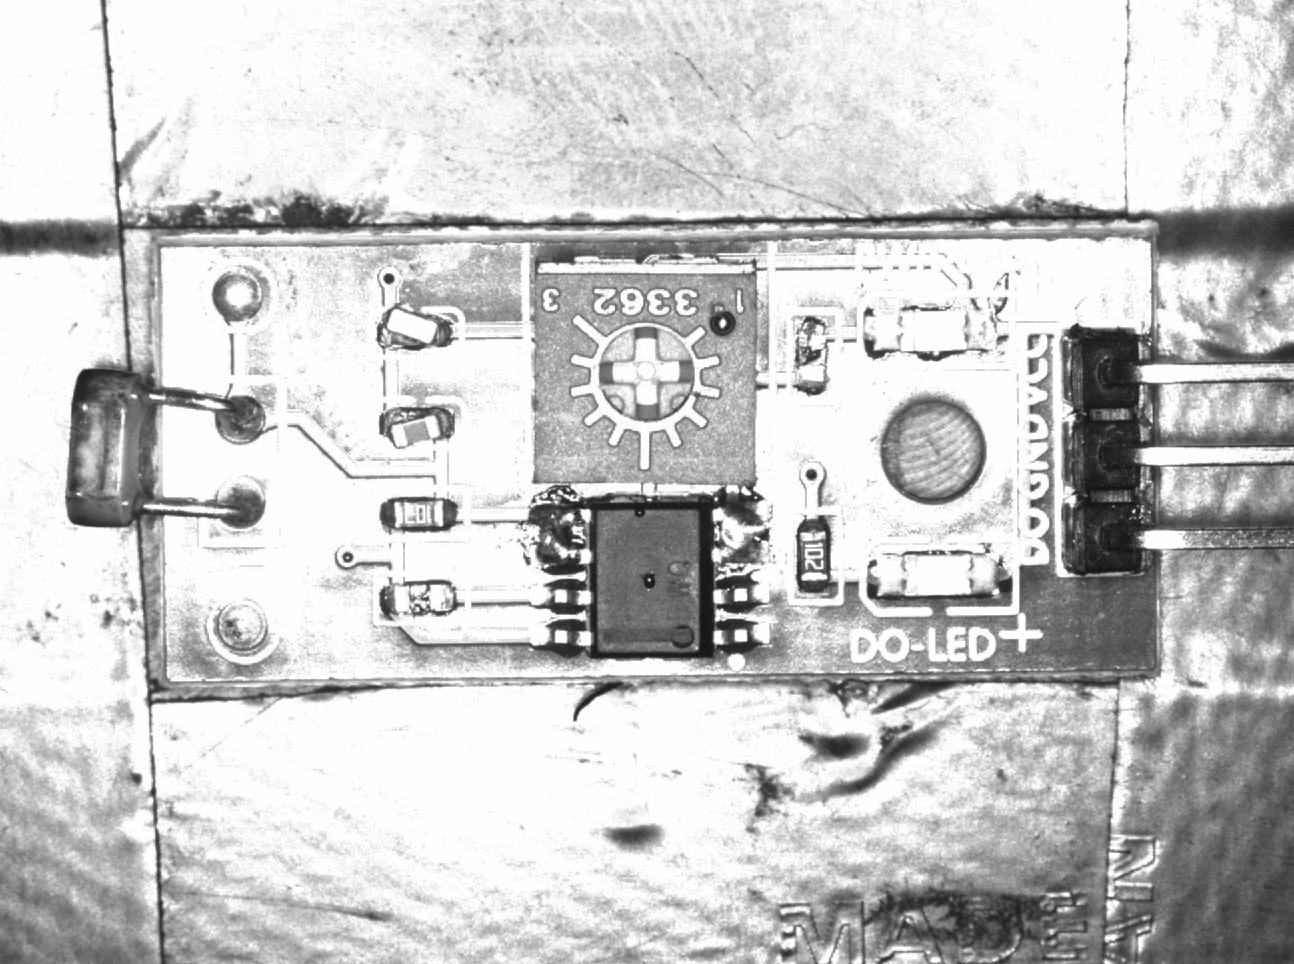bridge: (712, 493, 777, 571), (524, 500, 594, 572)
lifted: (372, 307, 467, 356), (378, 398, 468, 449)
miss: (371, 571, 473, 625), (786, 308, 840, 403)
ok: (786, 506, 843, 605), (373, 486, 470, 539)
